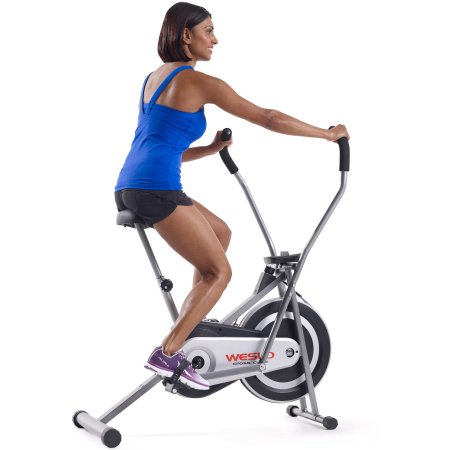gym_bike: (60, 124, 366, 447)
